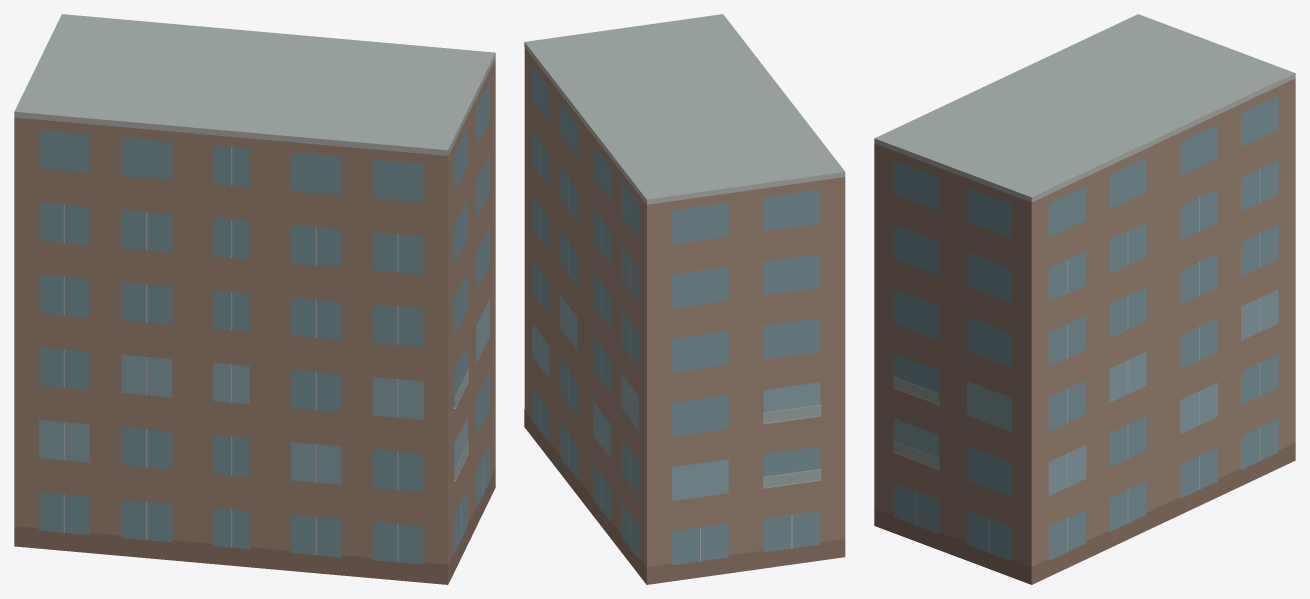
File: survey-upis-32741894.glb
3 renders of one model, left to right at view 1: azimuth 30°, elevation 25°; view 2: azimuth 150°, elevation 25°; view 3: azimuth 270°, elevation 25°, orthographic. The views are drawn at different scales.
Parts seen in each view (by area): view 1: survey-upis-32741894.tmp; view 2: survey-upis-32741894.tmp; view 3: survey-upis-32741894.tmp.
Part boxes in pixels (x1,y1,x2,y2): survey-upis-32741894.tmp: (14,14,495,584); survey-upis-32741894.tmp: (524,14,845,584); survey-upis-32741894.tmp: (874,14,1295,584).
Size of the model in its own units: 18.59 by 18.3 by 18.03.
